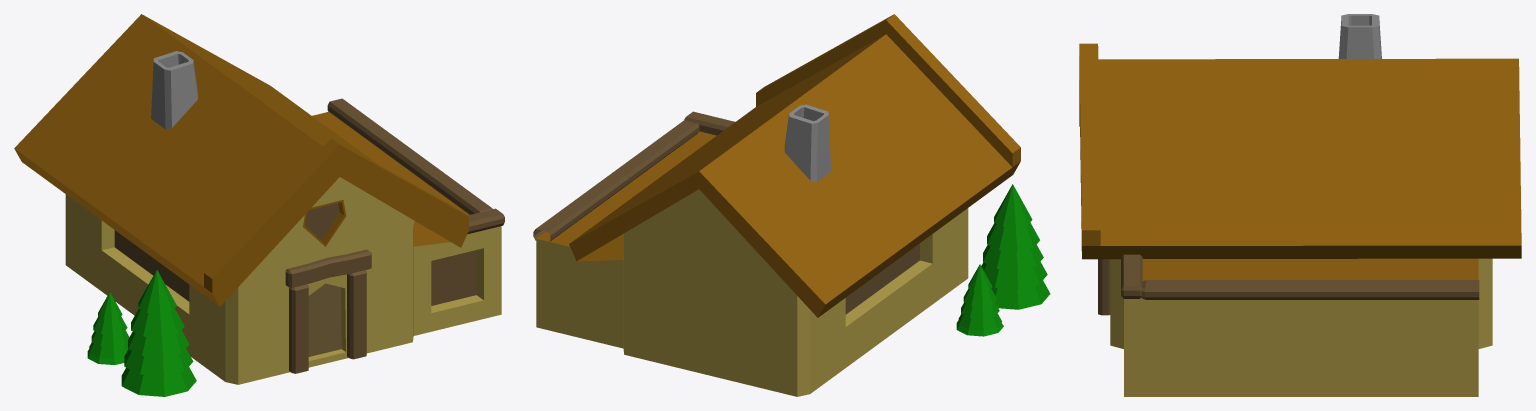
The model's file is SideHouse4.fbx.
3 views of the same model, side by side, from view 1: azimuth 30°, elevation 25°; view 2: azimuth 150°, elevation 25°; view 3: azimuth 270°, elevation 25° (orthographic). The views are drawn at different scales.
Visible parts, largest first — view 1: House.002, Cone.002; view 2: House.002, Cone.002; view 3: House.002.
Boxes of the visible parts, x1=… form: House.002: x1=14, y1=14, x2=504, y2=384; Cone.002: x1=87, y1=270, x2=196, y2=396; House.002: x1=533, y1=14, x2=1020, y2=396; Cone.002: x1=956, y1=184, x2=1050, y2=336; House.002: x1=1079, y1=14, x2=1521, y2=396.
Bounding box in the file's own units: 4304 × 2584 × 4028.
